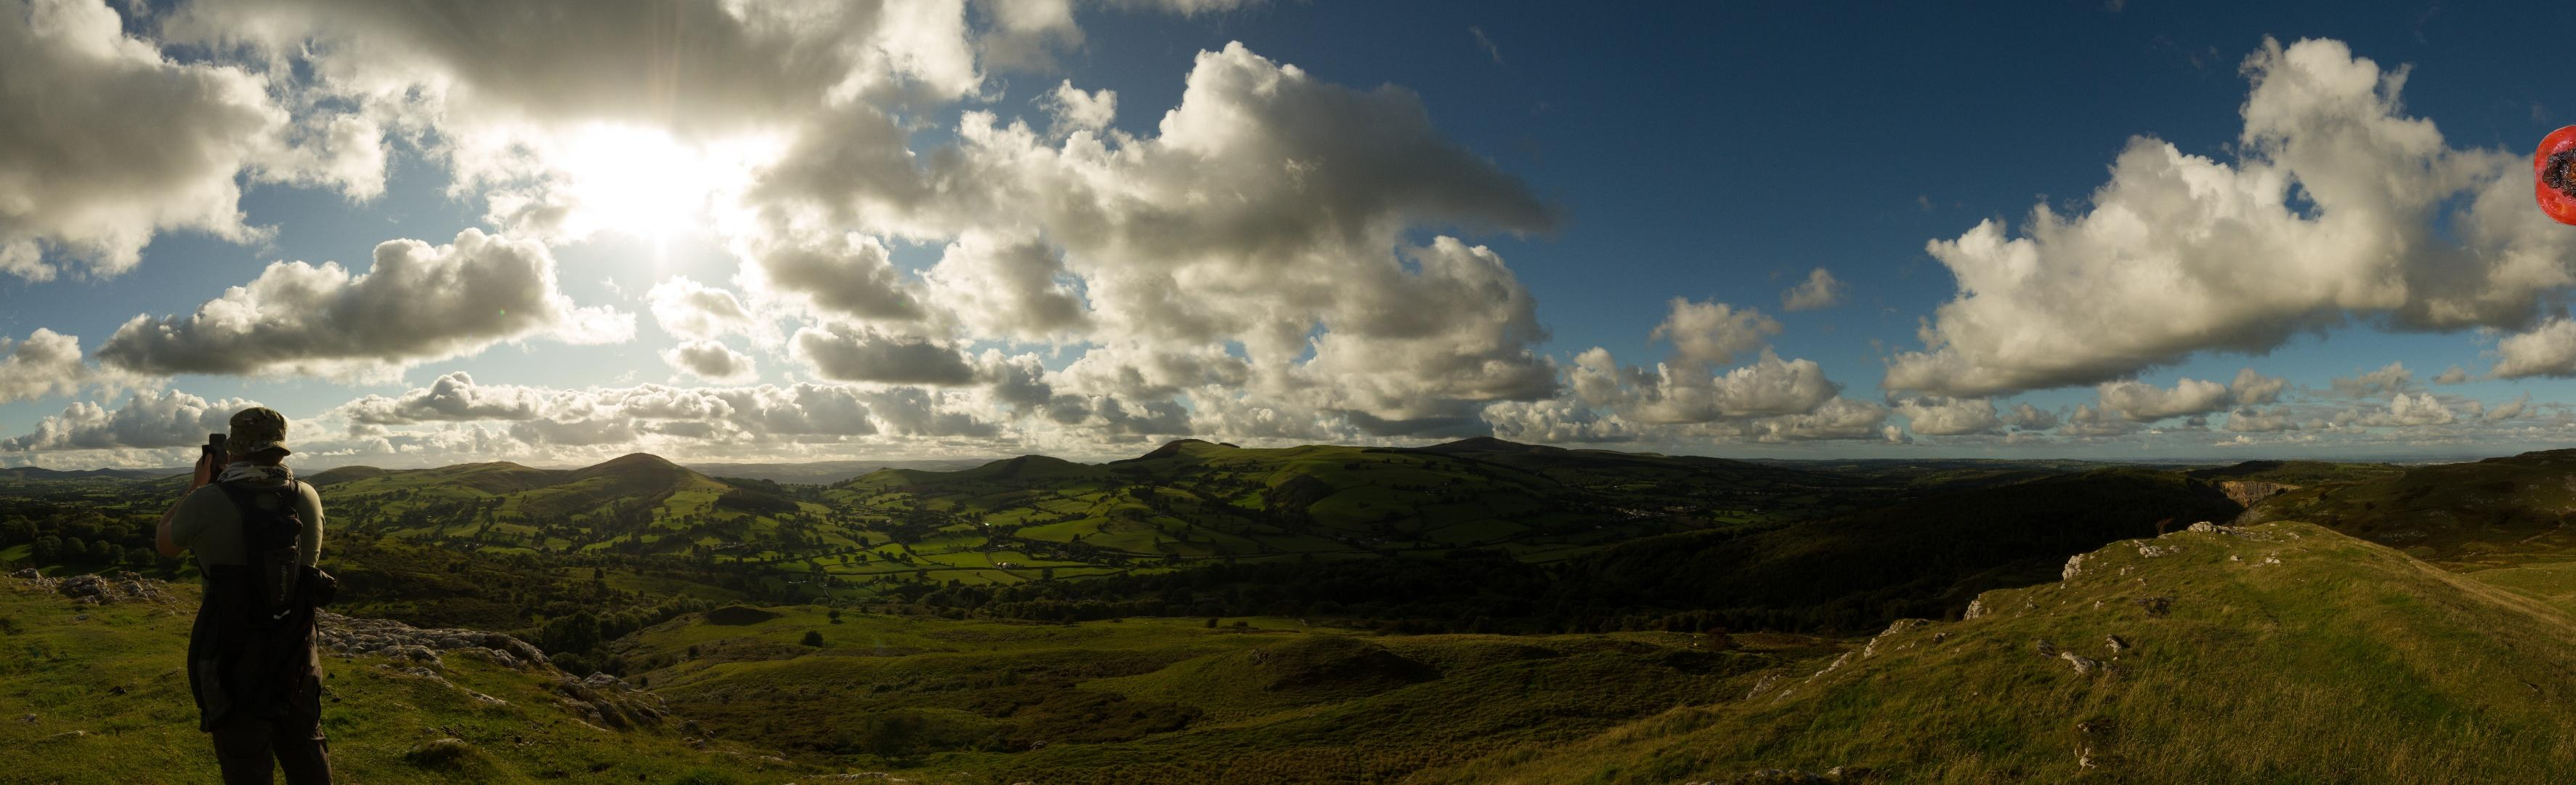biological: (2532, 120, 2576, 232)
